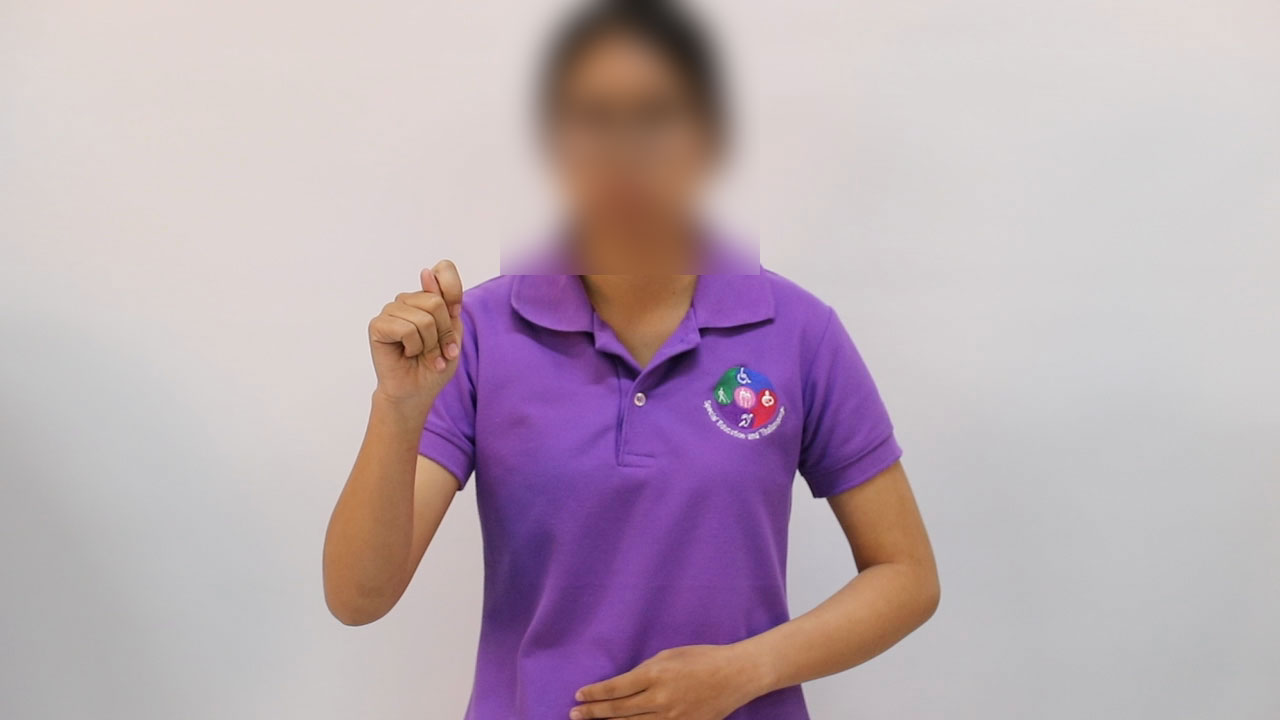tor: (342, 238, 504, 439)
